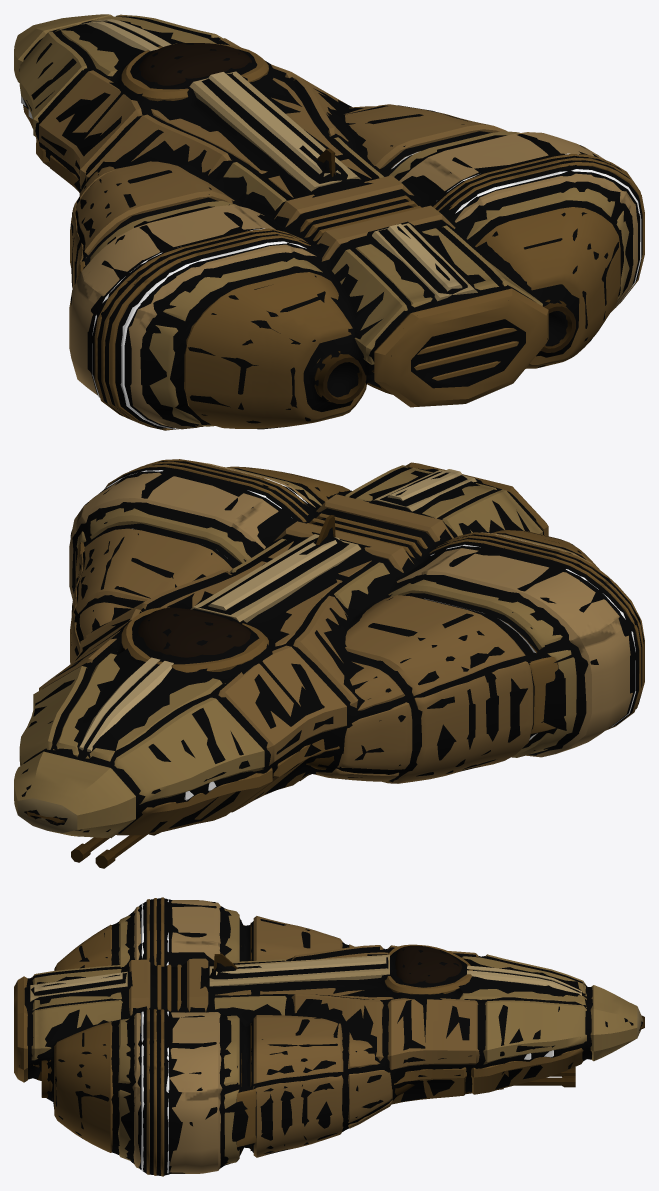
The model's file is usp_talon.glb.
The picture shows the model from 3 angles, top to bottom: view 1: azimuth 30°, elevation 25°; view 2: azimuth 150°, elevation 25°; view 3: azimuth 270°, elevation 25°; orthographic projection. The views are drawn at different scales.
Visible parts, largest first — view 1: usp_talon, usp_talon_outline; view 2: usp_talon, usp_talon_outline; view 3: usp_talon, usp_talon_outline.
Boxes of the visible parts, <box> form: usp_talon: <box>14,14,644,430</box>; usp_talon_outline: <box>19,16,642,429</box>; usp_talon: <box>14,459,644,868</box>; usp_talon_outline: <box>21,461,644,849</box>; usp_talon: <box>14,897,644,1176</box>; usp_talon_outline: <box>19,898,642,1175</box>.
Bounding box in the file's own units: 1.54 × 0.5293 × 2.08.
14 materials, 11 textured.
